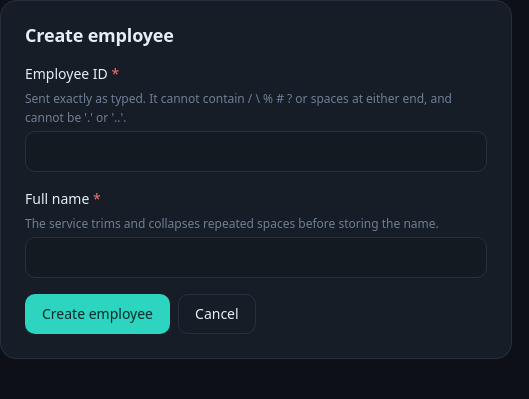
Test: create employee form › reports a duplicate identifier on the id field
The image size is (529, 399).
Type "EMP-1" into the field labelled "Employee ID *" at (256, 152), box [25,131,487,172]
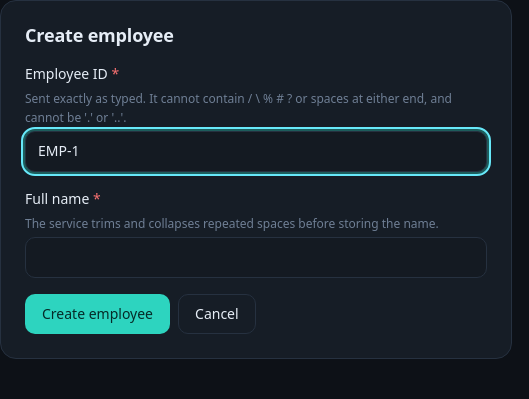
Type "Ada Example" into the field labelled "Full name *" at (256, 258), box [25,237,487,278]
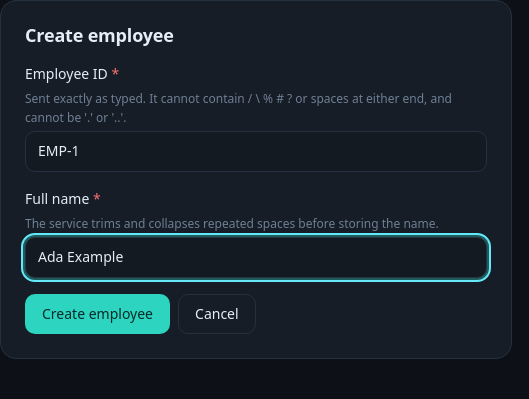
Click the button "Create employee" at (98, 314), box [25,294,170,334]
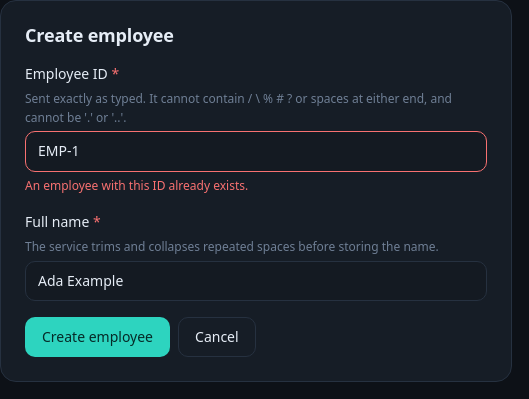
Check: the text "An employee with this ID already exists." is shown, box [25,177,248,194]
